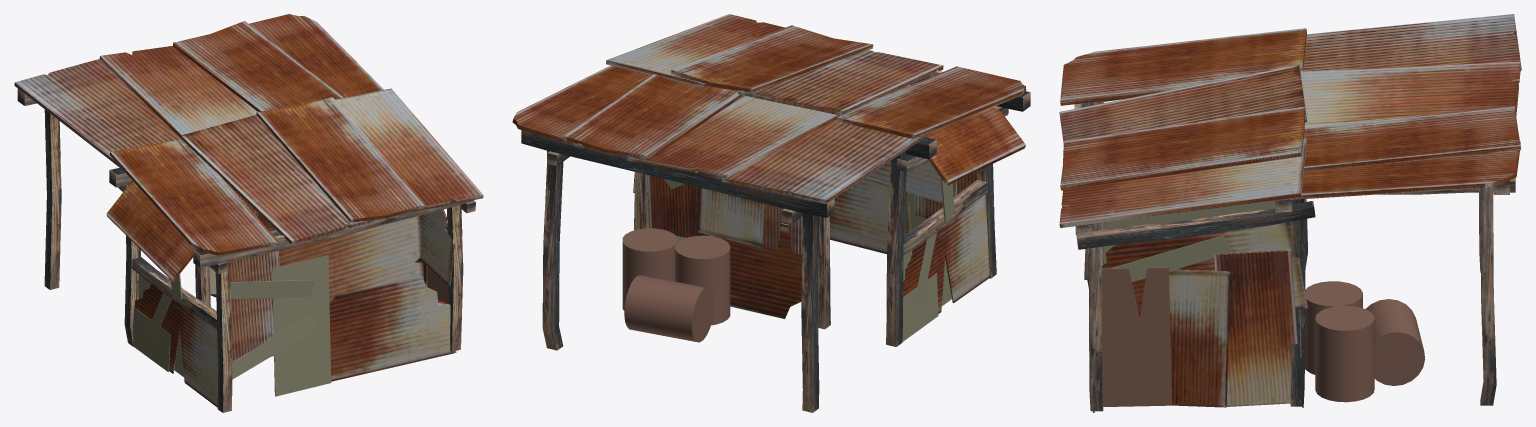
File: river-shack.lod1.glb
The picture shows the model from 3 angles, left to right: view 1: azimuth 30°, elevation 25°; view 2: azimuth 150°, elevation 25°; view 3: azimuth 270°, elevation 25°; orthographic projection. The views are drawn at different scales.
Parts seen in each view (by area): view 1: pCube1_lambert2_0, pCube4_lambert4_0, pasted__pCube3_pasted__lambert3_0; view 2: pCube1_lambert2_0, pCube4_lambert4_0, pasted__pCube3_pasted__lambert3_0; view 3: pCube1_lambert2_0, pasted__pCube3_pasted__lambert3_0, pCube4_lambert4_0.
Boxes of the visible parts, x1=… form: pCube1_lambert2_0: x1=14, y1=14, x2=483, y2=407; pCube4_lambert4_0: x1=17, y1=88, x2=475, y2=412; pasted__pCube3_pasted__lambert3_0: x1=133, y1=223, x2=447, y2=396; pCube1_lambert2_0: x1=512, y1=14, x2=1026, y2=318; pCube4_lambert4_0: x1=521, y1=17, x2=1030, y2=412; pasted__pCube3_pasted__lambert3_0: x1=622, y1=178, x2=954, y2=342; pCube1_lambert2_0: x1=1059, y1=14, x2=1521, y2=412; pasted__pCube3_pasted__lambert3_0: x1=1101, y1=201, x2=1424, y2=406; pCube4_lambert4_0: x1=1074, y1=98, x2=1515, y2=411.
Size of the model in its own units: 4.47 by 2.96 by 5.
3 materials, 2 textured.
